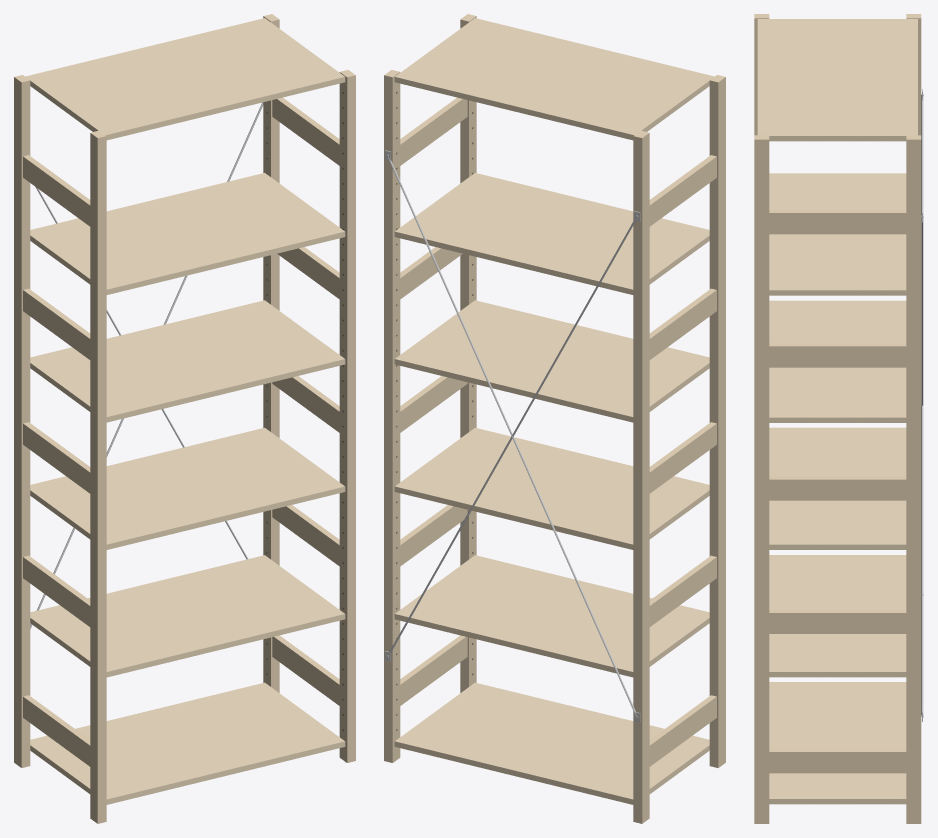
3 views of the same model, side by side, from view 1: azimuth 30°, elevation 25°; view 2: azimuth 150°, elevation 25°; view 3: azimuth 270°, elevation 25° (orthographic).
Parts seen in each view (by area): view 1: Shelf_6, Shelf_5, Shelf_4, Shelf_3, Shelf_2, Shelf_1, PostF_L, PostF_R, PostB_L, PostB_R, Rung_L1, Rung_L2 (+9 smaller); view 2: Shelf_6, Shelf_5, Shelf_4, Shelf_3, Shelf_2, Shelf_1, PostB_L, PostB_R, PostF_L, PostF_R, CrossBrace, Rung_L1 (+9 smaller); view 3: Shelf_6, Shelf_5, Shelf_1, Shelf_3, Shelf_4, Shelf_2, PostB_R, PostF_R, Rung_R1, Rung_R3, Rung_R4, Rung_R5 (+4 smaller).
Boxes of the visible parts, x1,y1,x2,y2 form: Shelf_6: (25,18,345,140); Shelf_5: (30,173,345,294); Shelf_4: (30,300,345,422); Shelf_3: (30,427,345,549); Shelf_2: (30,555,345,677); Shelf_1: (30,682,345,804); PostF_L: (90,130,106,823); PostF_R: (339,70,355,762); PostB_L: (14,75,30,767); PostB_R: (263,14,279,692); Rung_L1: (23,695,90,766); Rung_L2: (23,555,90,626); Shelf_6: (394,18,714,140); Shelf_5: (394,173,709,294); Shelf_4: (394,300,709,422); Shelf_3: (394,427,709,549); Shelf_2: (394,555,709,677); Shelf_1: (394,682,709,804); PostB_L: (633,130,649,823); PostB_R: (384,70,400,762); PostF_L: (709,75,725,767); PostF_R: (460,14,476,692); CrossBrace: (384,150,640,722); Rung_L1: (649,695,716,766); Shelf_6: (757,19,917,141); Shelf_5: (769,173,906,295); Shelf_1: (769,682,906,804); Shelf_3: (769,427,906,549); Shelf_4: (769,300,906,422); Shelf_2: (769,555,906,677); PostB_R: (906,135,921,823); PostF_R: (754,135,769,823); Rung_R1: (769,749,906,773); Rung_R3: (769,476,906,500); Rung_R4: (769,343,906,367); Rung_R5: (769,210,906,234).
Bounding box in the file's own units: 0.89 × 2.26 × 0.507.
